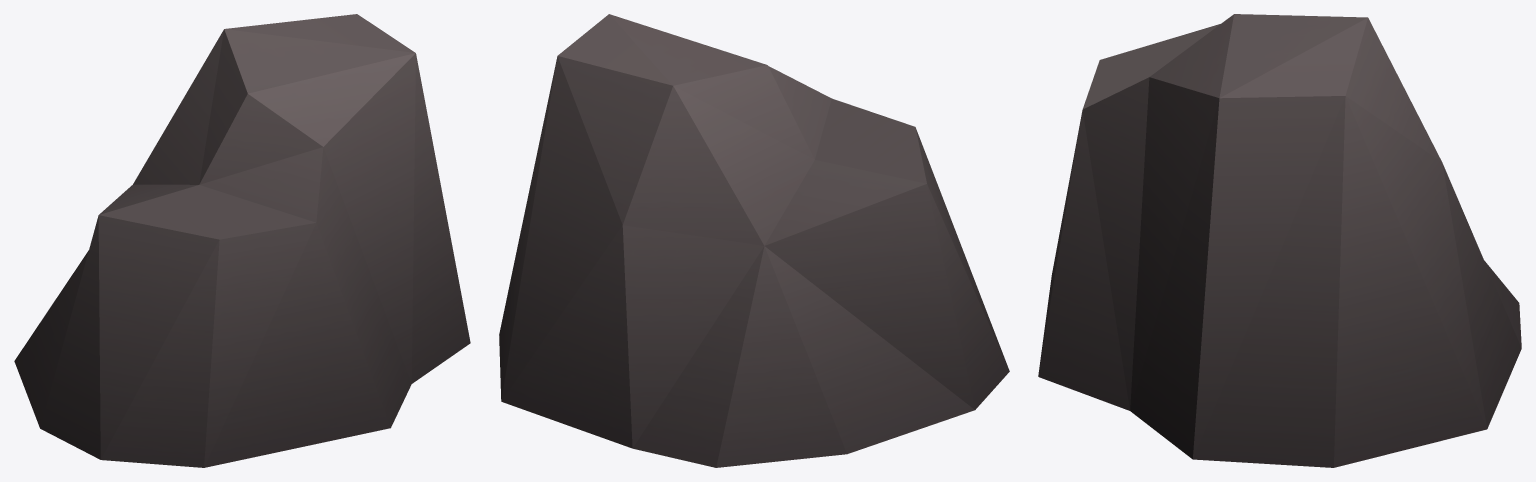
The model's file is SM_Rock_base_1.fbx.
3 renders of one model, left to right at view 1: azimuth 30°, elevation 25°; view 2: azimuth 150°, elevation 25°; view 3: azimuth 270°, elevation 25°, orthographic. The views are drawn at different scales.
Parts seen in each view (by area): view 1: Rock_base_1; view 2: Rock_base_1; view 3: Rock_base_1.
Part boxes in pixels (x1,y1,x2,y2): Rock_base_1: (14, 14, 470, 467); Rock_base_1: (499, 14, 1009, 467); Rock_base_1: (1038, 14, 1521, 467).
Size of the model in its own units: 256 by 173 by 219.
Materials: 1 (1 with a texture image).
